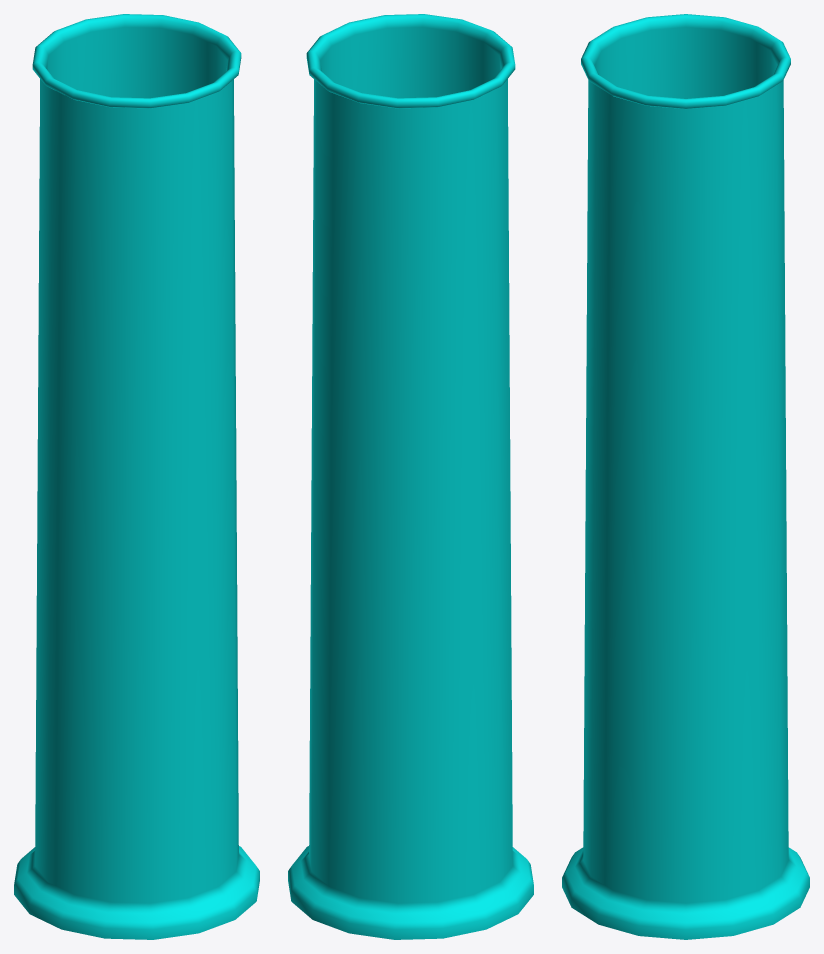
Rendered from SM_Flask4.fbx.
3 renders of one model, left to right at view 1: azimuth 30°, elevation 25°; view 2: azimuth 150°, elevation 25°; view 3: azimuth 270°, elevation 25°, orthographic.
Parts seen in each view (by area): view 1: Flask4; view 2: Flask4; view 3: Flask4.
Part boxes in pixels (left/top/right/bottom): Flask4: left=14, top=14, right=259, bottom=939; Flask4: left=288, top=14, right=533, bottom=939; Flask4: left=562, top=14, right=809, bottom=939.
Size of what is drawn, in the model's own units: 5 by 18.5 by 5.
